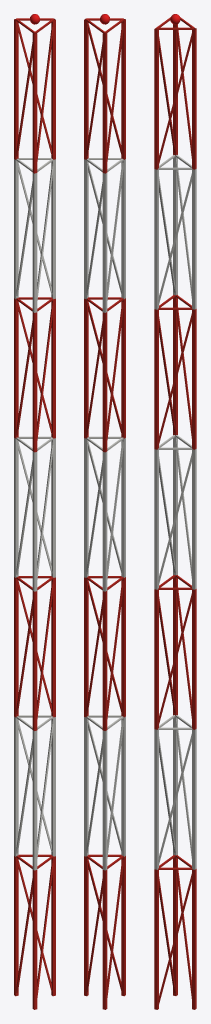
Rendered from tower.glb.
3 renders of one model, left to right at view 1: azimuth 30°, elevation 25°; view 2: azimuth 150°, elevation 25°; view 3: azimuth 330°, elevation 25°, orthographic.
Parts seen in each view (by area): view 1: tower; view 2: tower; view 3: tower.
Boxes of the visible parts, box(x1,y1,x2,y2) form: tower: box(14, 14, 55, 1009); tower: box(84, 14, 125, 1009); tower: box(154, 14, 196, 1009).
Bounding box in the file's own units: 1.99 × 60.62 × 2.27.
